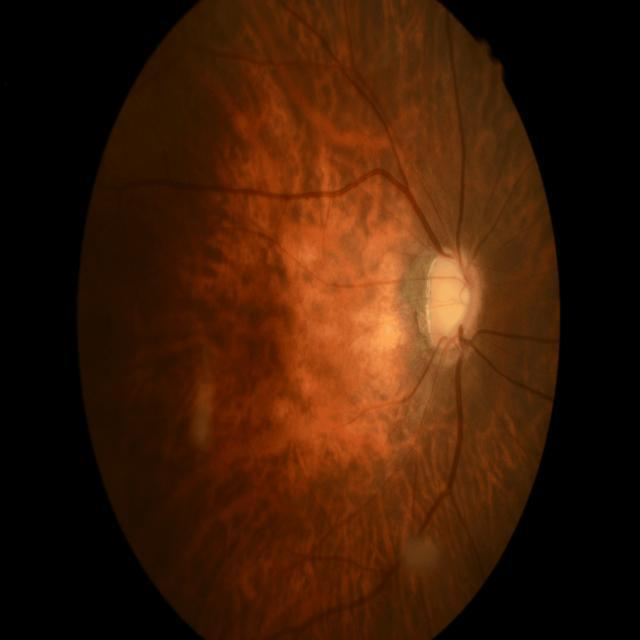cup: (436, 255, 472, 338)
disk: (425, 248, 484, 349)
